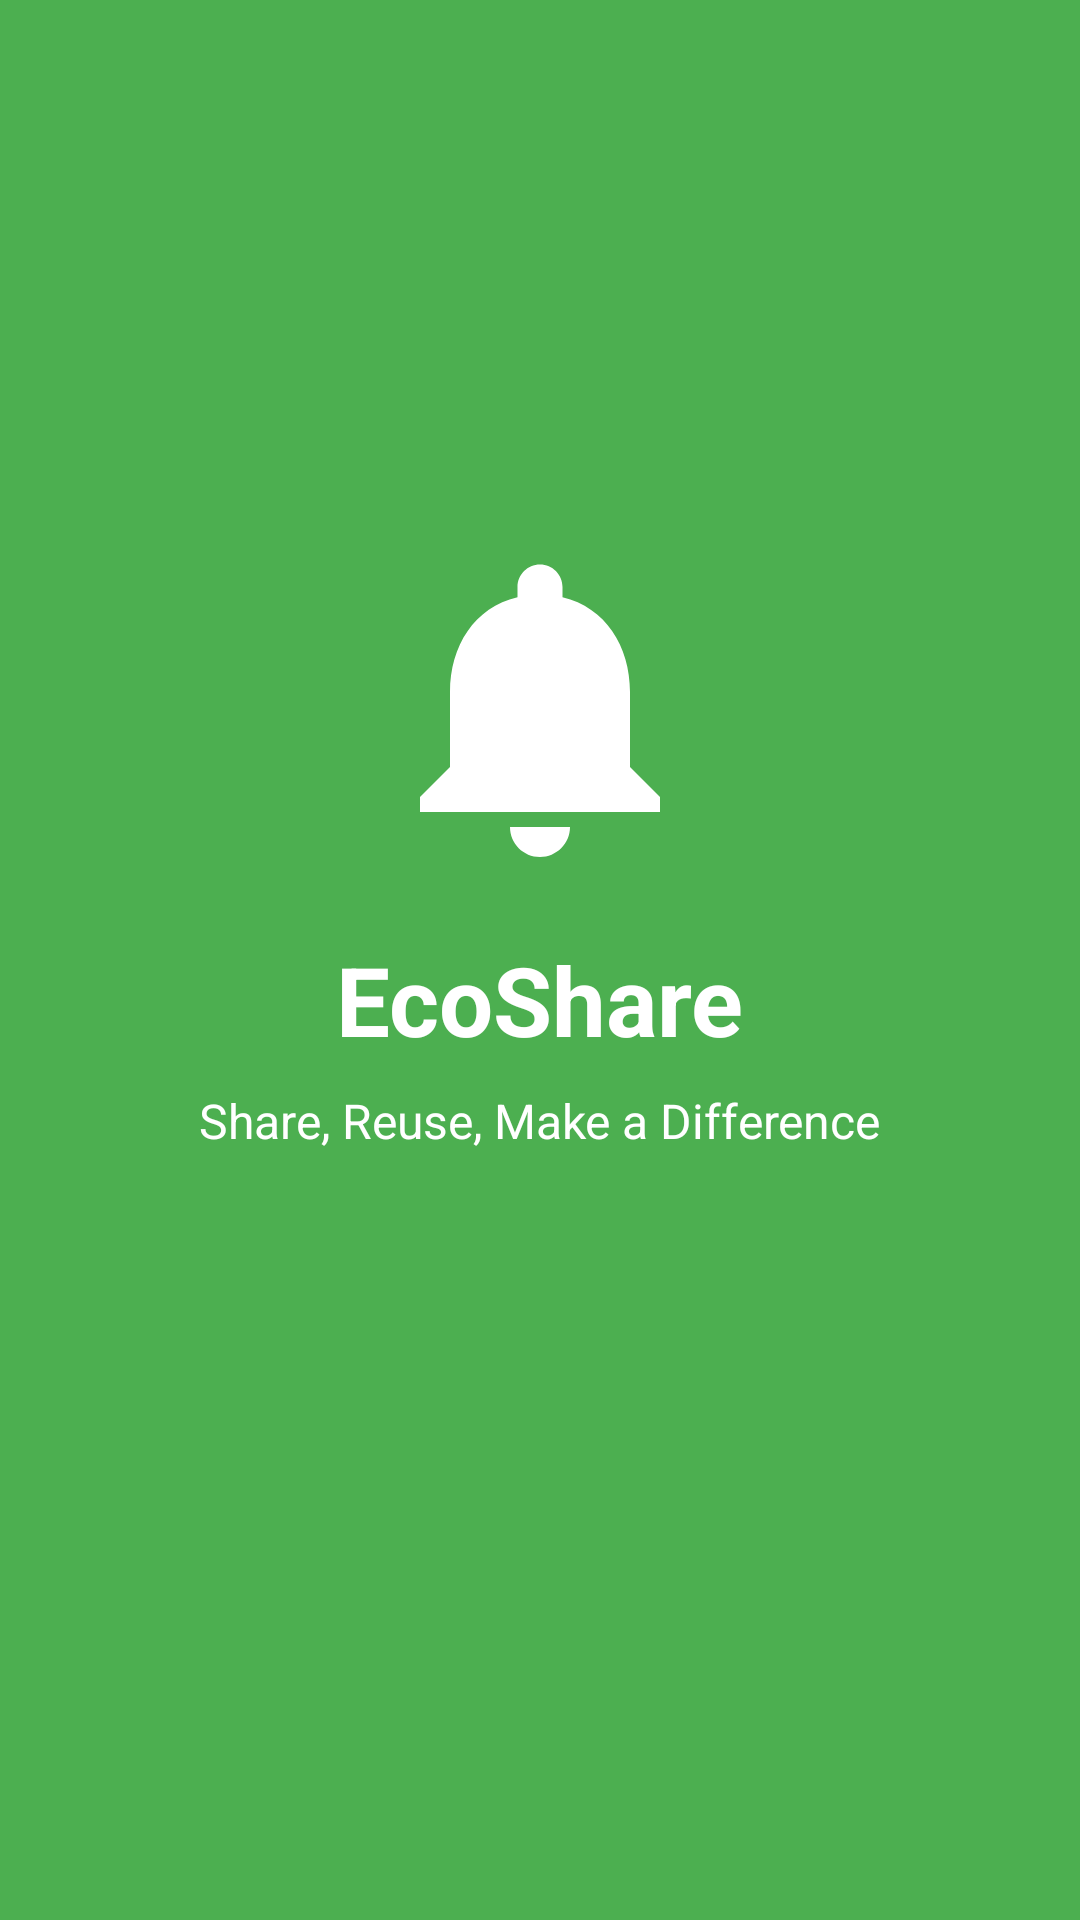

Icon bounding boxes for this 1080 x 1920 phone screenshot, format (x1, y1, x2, y2):
notification: (420, 564, 660, 857)
